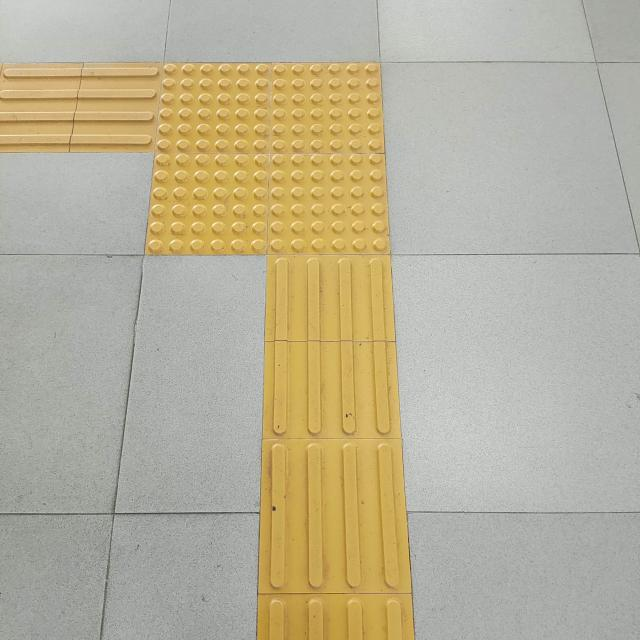kiri: (0, 30, 455, 353)
